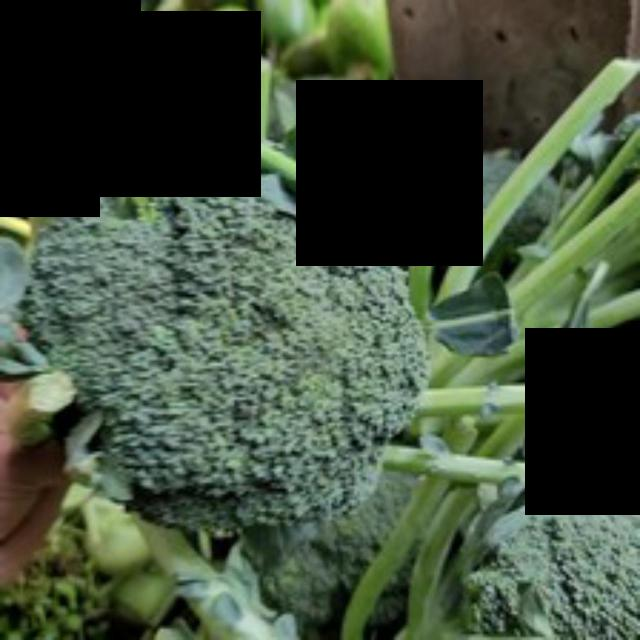broccoli: (0, 134, 446, 571)
